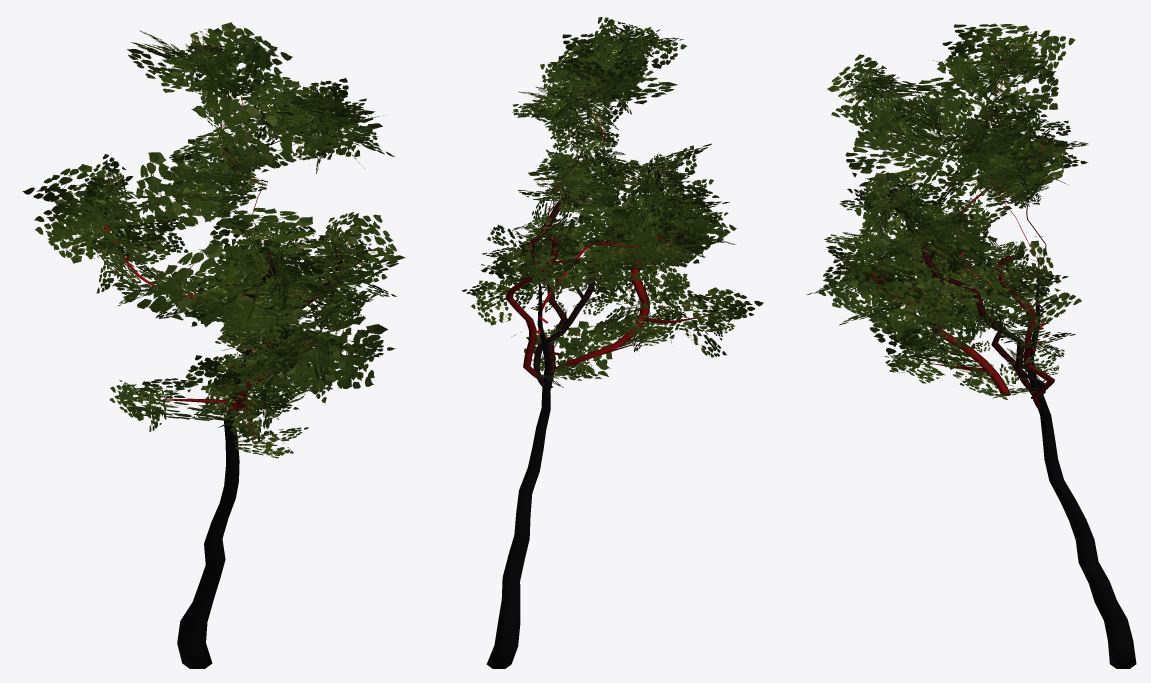
3 renders of one model, left to right at view 1: azimuth 30°, elevation 25°; view 2: azimuth 150°, elevation 25°; view 3: azimuth 270°, elevation 25°, orthographic. The views are drawn at different scales.
Parts seen in each view (by area): view 1: Tree14; view 2: Tree14; view 3: Tree14.
Part boxes in pixels (bbox=[...]): Tree14: bbox=[22, 22, 405, 668]; Tree14: bbox=[462, 17, 763, 668]; Tree14: bbox=[806, 23, 1136, 668].
Size of the model in its own units: 5.38 by 10.99 by 5.42.
